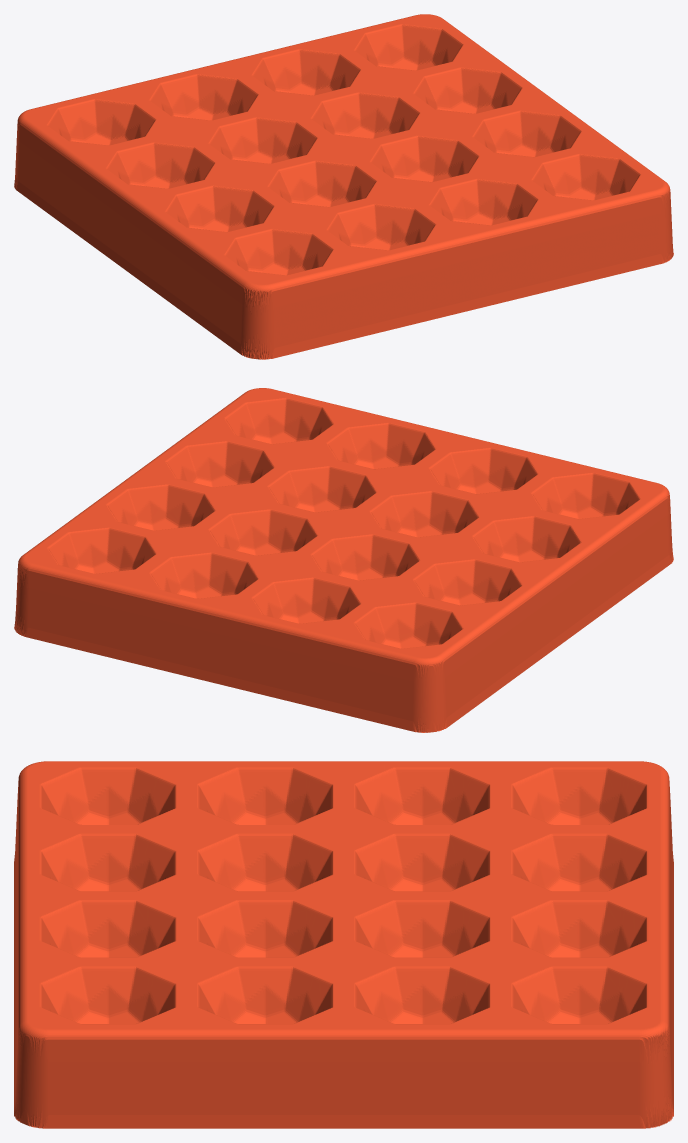
File: mold.glb
3 renders of one model, top to bottom at view 1: azimuth 30°, elevation 25°; view 2: azimuth 150°, elevation 25°; view 3: azimuth 270°, elevation 25°, orthographic. The views are drawn at different scales.
Visible parts, largest first — view 1: geometry_0; view 2: geometry_0; view 3: geometry_0.
Part boxes in pixels (bbox=[...]): geometry_0: bbox=[14, 14, 673, 359]; geometry_0: bbox=[14, 388, 673, 732]; geometry_0: bbox=[14, 761, 673, 1128].
Bounding box in the file's own units: 0.1733 × 0.0271 × 0.1733.
